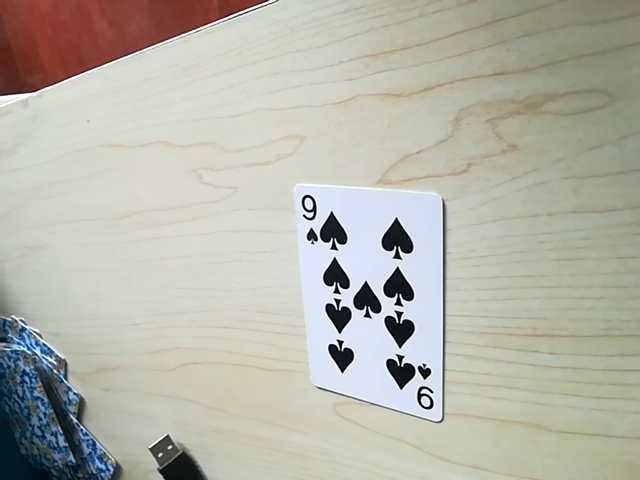ht 9: (297, 191, 331, 243), (408, 372, 438, 420)
